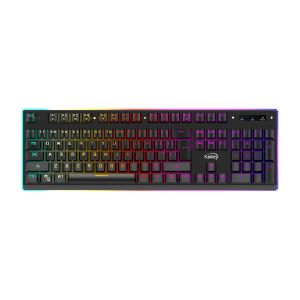keyboard: (21, 108, 280, 192)
